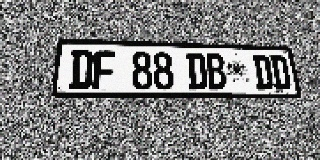8: (132, 51, 153, 90), (153, 52, 174, 90)
B: (205, 53, 227, 90)
D: (69, 50, 93, 90), (186, 53, 208, 90), (269, 55, 292, 90), (252, 55, 274, 90)
F: (92, 50, 115, 90)
